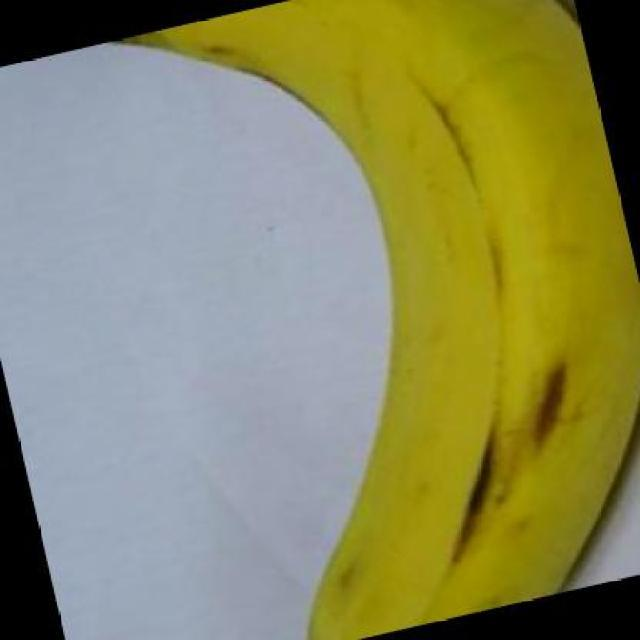ripe: (115, 0, 640, 638)
